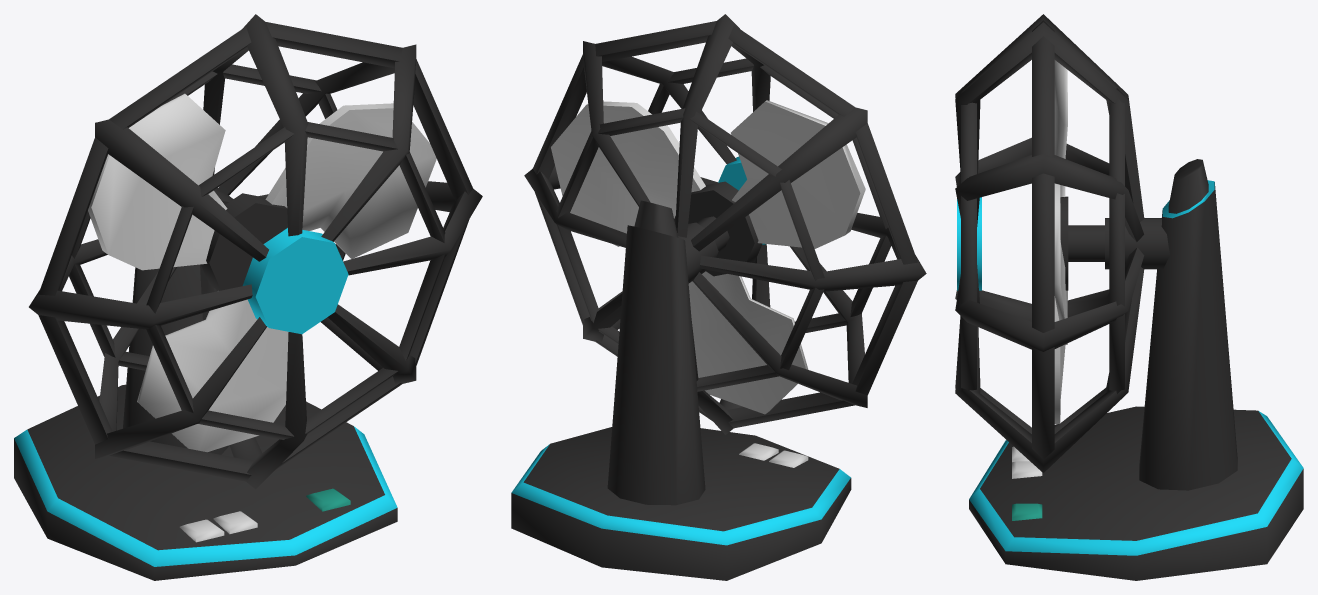
The model's file is mesh_fan2.fbx.
3 renders of one model, left to right at view 1: azimuth 30°, elevation 25°; view 2: azimuth 150°, elevation 25°; view 3: azimuth 270°, elevation 25°, orthographic. The views are drawn at different scales.
Parts seen in each view (by area): view 1: mesh_tech_fan_01_2, mesh_tech_fan_01, mesh_tech_fan_01_3; view 2: mesh_tech_fan_01_2, mesh_tech_fan_01, mesh_tech_fan_01_3; view 3: mesh_tech_fan_01_2, mesh_tech_fan_01, mesh_tech_fan_01_3.
Part boxes in pixels (bbox=[...]): mesh_tech_fan_01_2: bbox=[29, 14, 482, 489]; mesh_tech_fan_01: bbox=[14, 384, 397, 580]; mesh_tech_fan_01_3: bbox=[88, 93, 436, 452]; mesh_tech_fan_01_2: bbox=[524, 14, 926, 505]; mesh_tech_fan_01: bbox=[511, 427, 851, 580]; mesh_tech_fan_01_3: bbox=[551, 100, 865, 414]; mesh_tech_fan_01_2: bbox=[955, 14, 1237, 490]; mesh_tech_fan_01: bbox=[969, 406, 1303, 580]; mesh_tech_fan_01_3: bbox=[1054, 60, 1067, 423].
Bounding box in the file's own units: 9.28 × 10.19 × 6.61.
